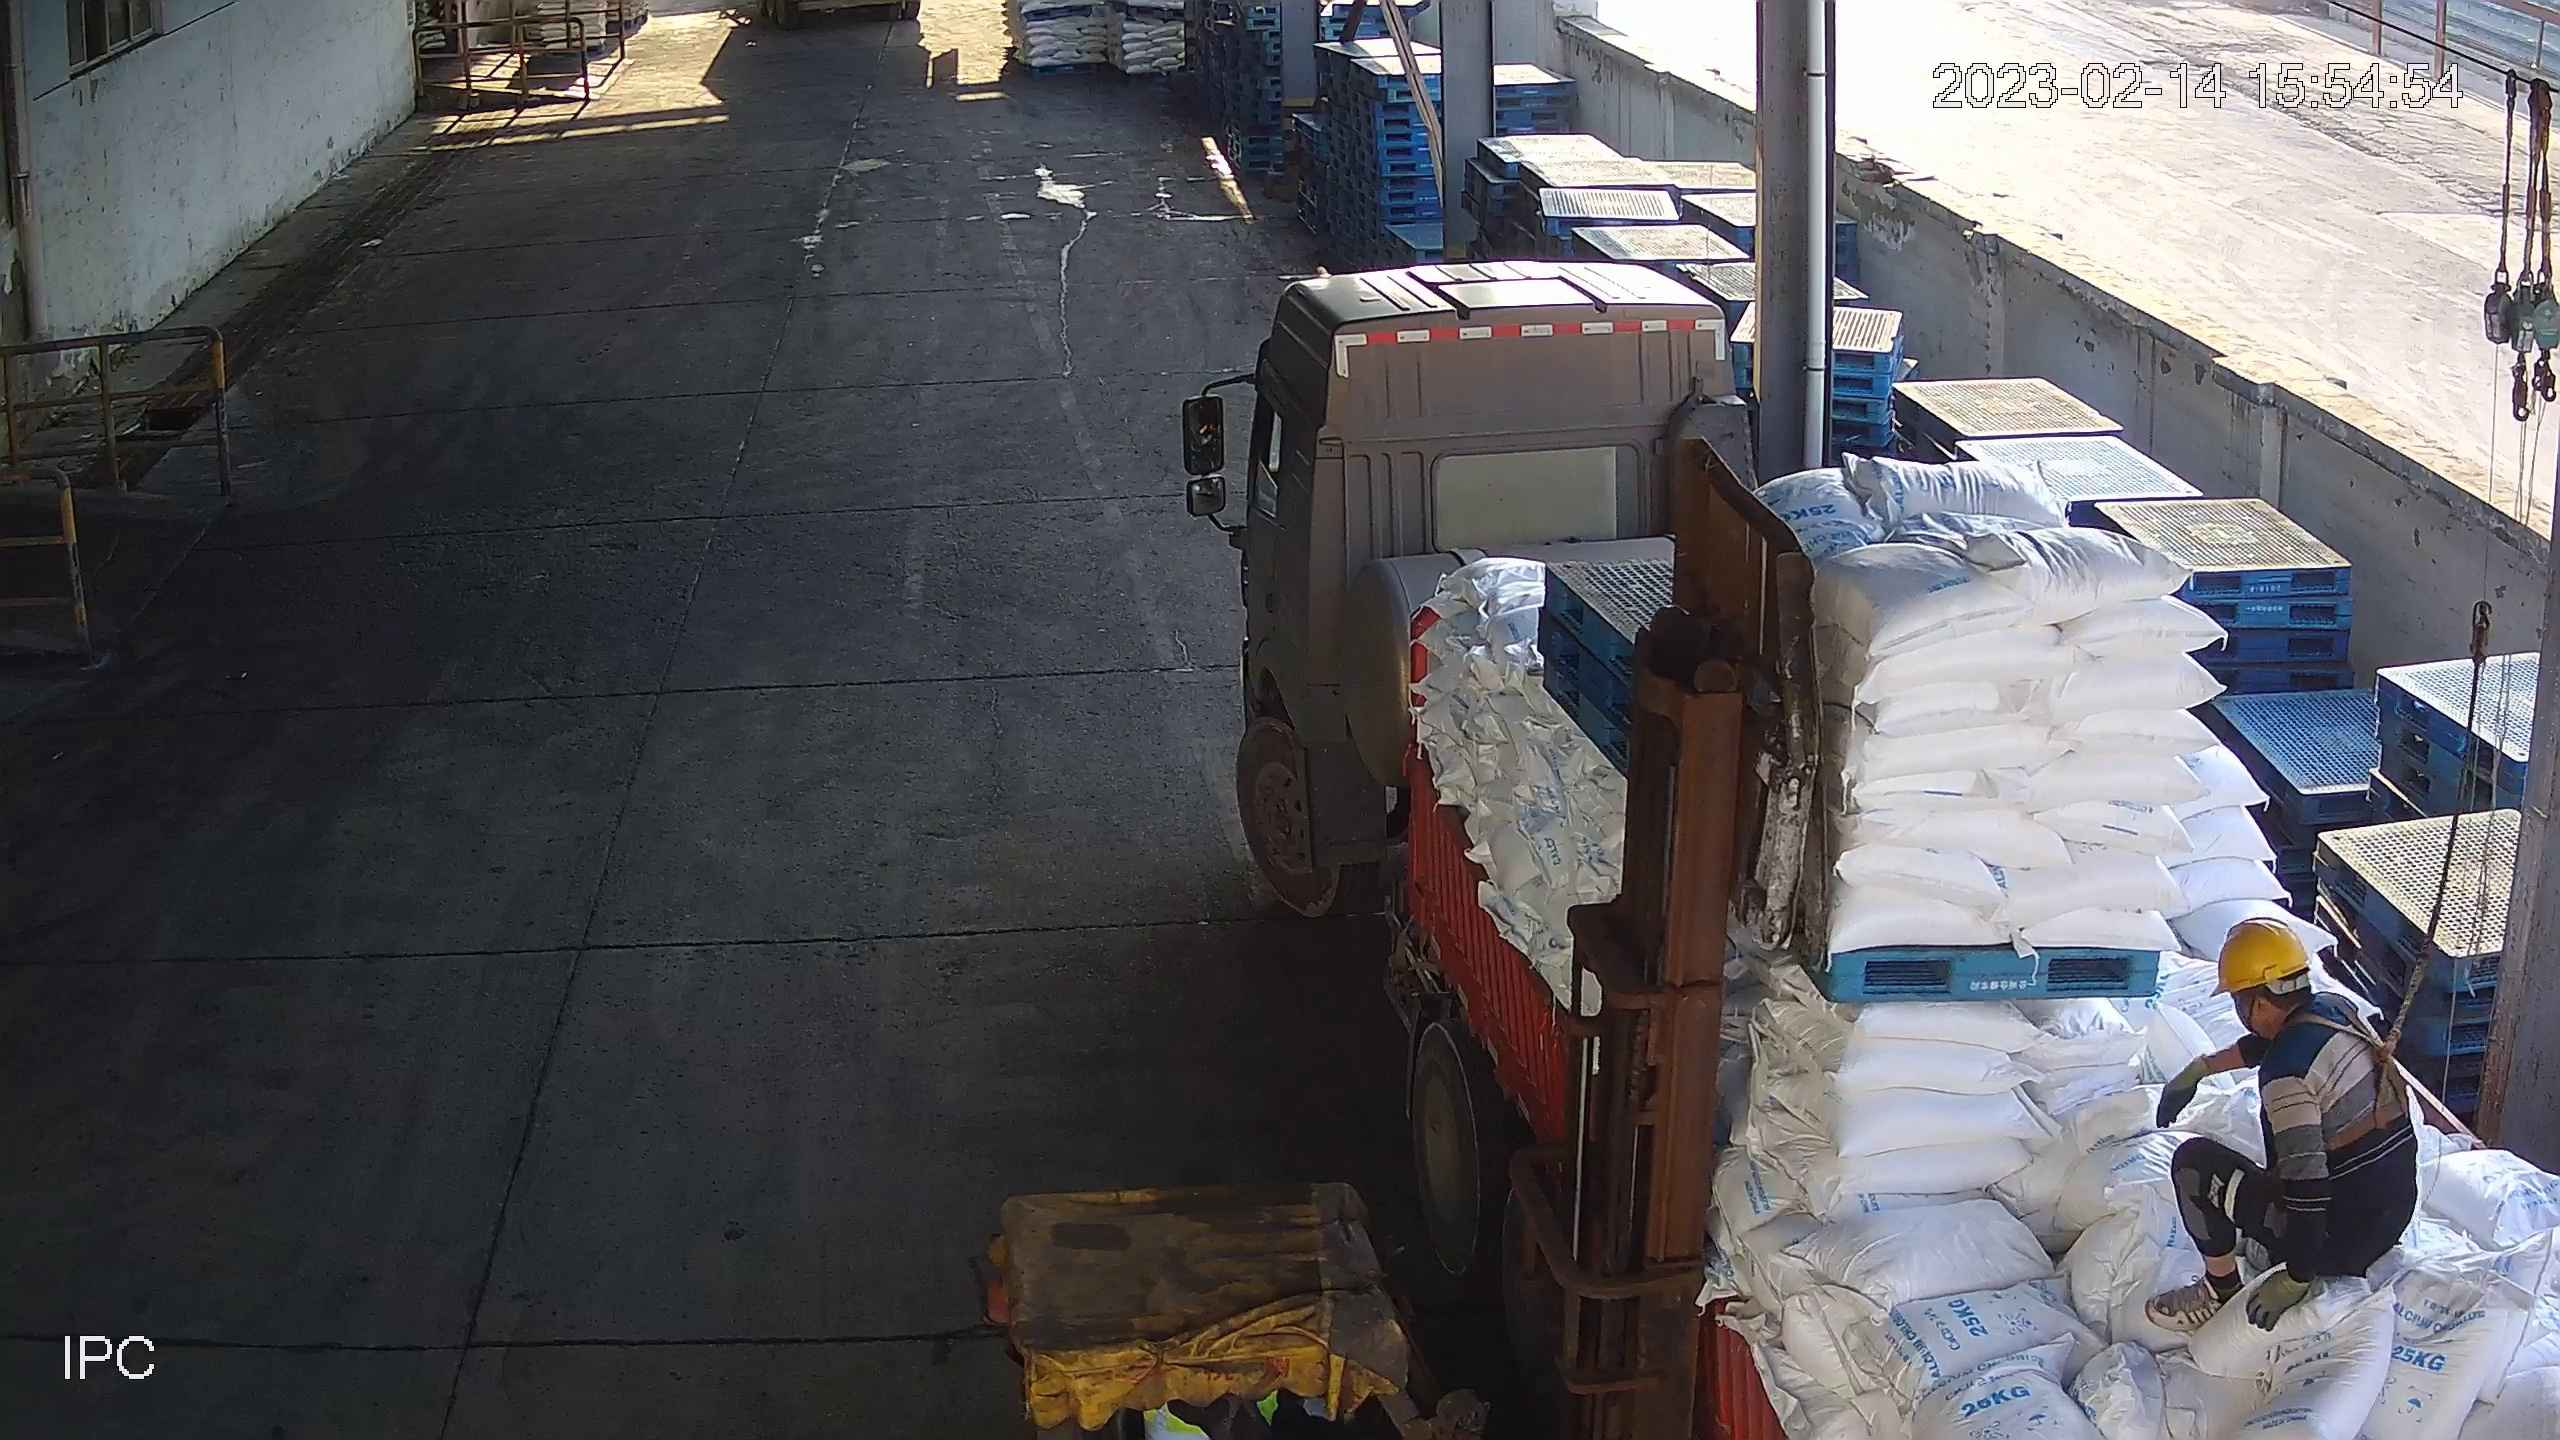belt: (2286, 1006, 2413, 1151)
head: (2207, 913, 2372, 1099)
helmet: (2204, 915, 2311, 993)
people: (2146, 916, 2427, 1336)
truck: (1170, 253, 2560, 1440)
